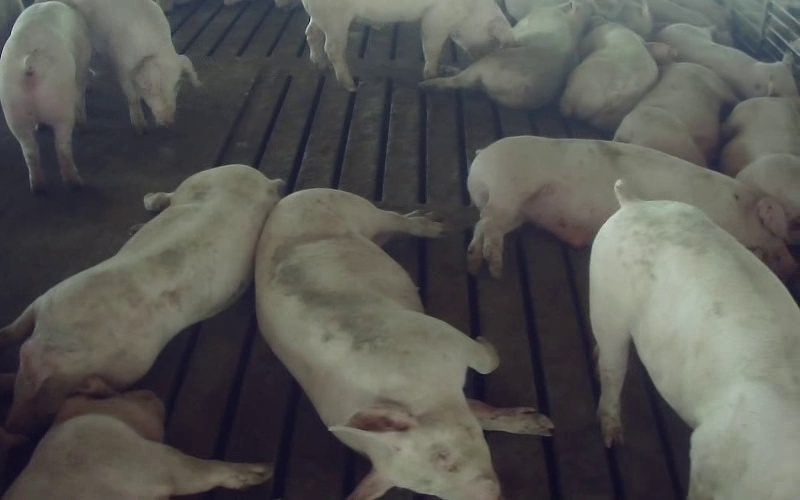pig: (257, 190, 553, 499), (0, 165, 281, 430), (590, 182, 799, 499), (468, 136, 794, 276), (4, 391, 271, 499), (302, 0, 512, 91), (421, 2, 590, 108), (63, 0, 198, 132), (0, 2, 91, 190), (614, 43, 736, 166), (720, 97, 799, 243), (560, 23, 657, 131), (658, 23, 797, 98)
